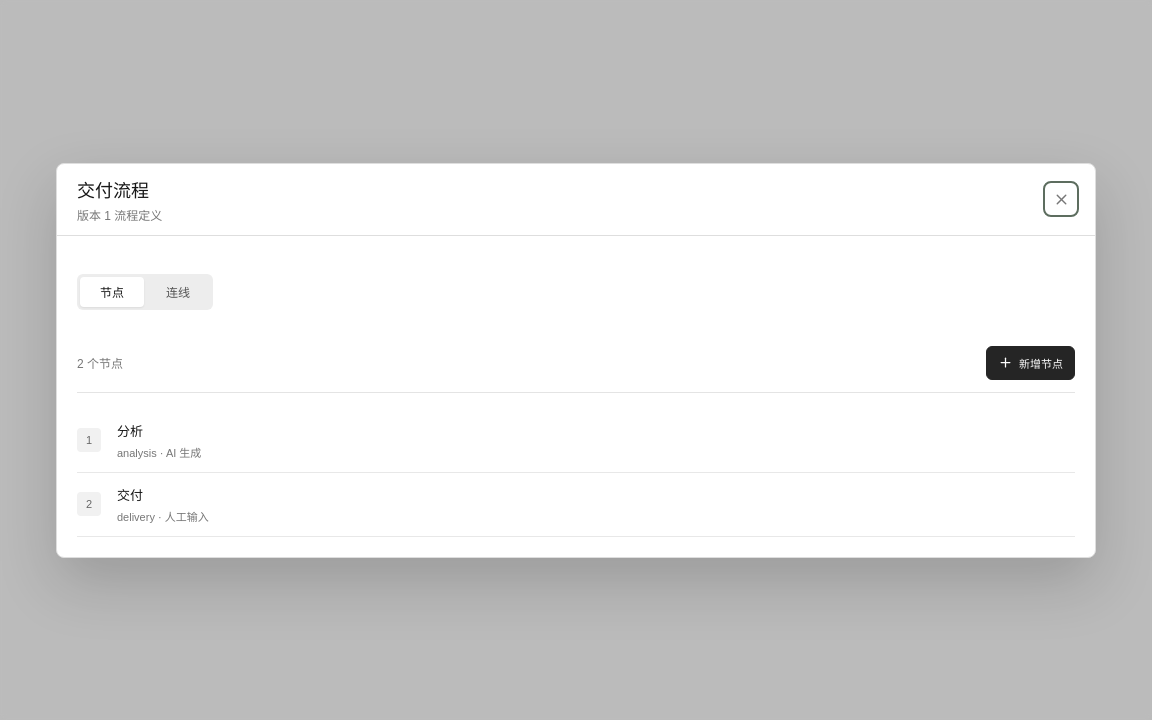
Scenario: WorkflowTemplateNodeEditor transient command failures › uses shared dialog, field, and button primitives for the node form
The width and height of the screenshot is (1152, 720).
Step 1. Click the button "新增节点" → click(1030, 362), box [986,346,1075,380]
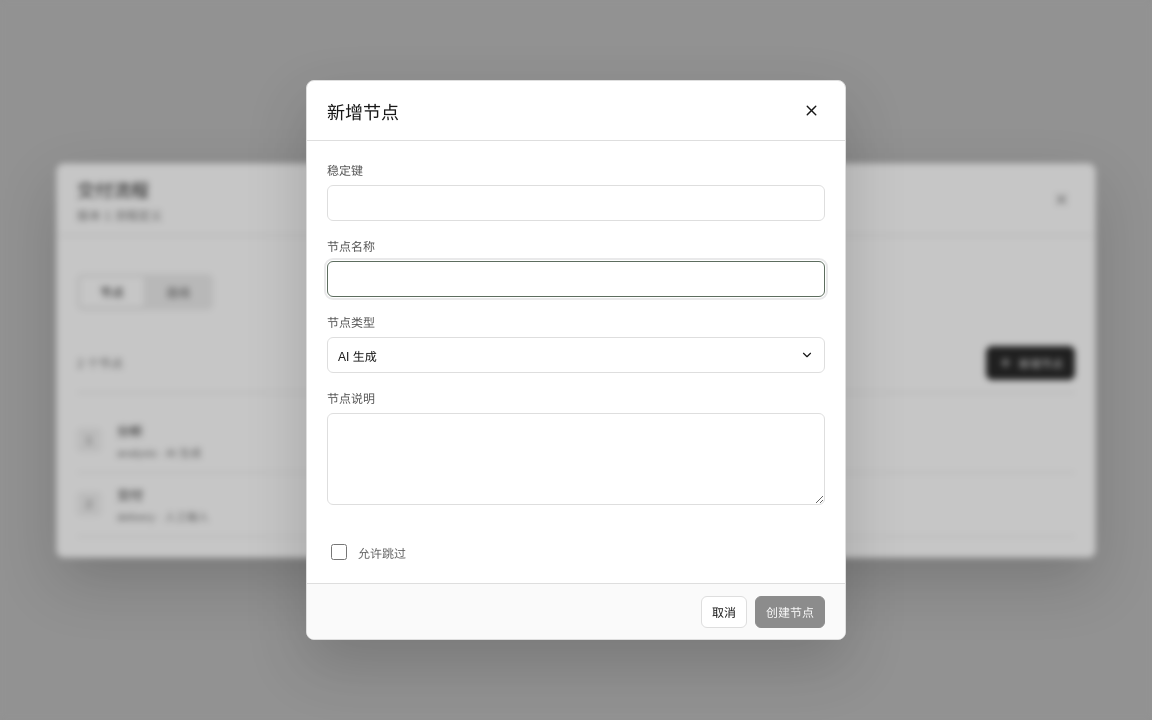
Expected: the element with class "ui-dialog__body" showing "稳定键 节点名称 节点类型 AI 生成 节点说明 允许跳过" is shown, [307,141,845,583]
Expected: the number of elements with class "ui-field" is 4, [327,161,825,221]; [327,237,825,297]; [327,313,825,373]; [327,389,825,505]
